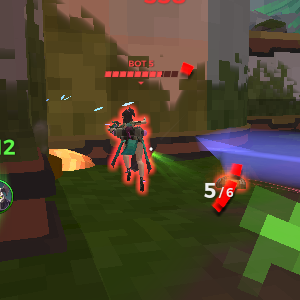model: (111, 105, 148, 194)
